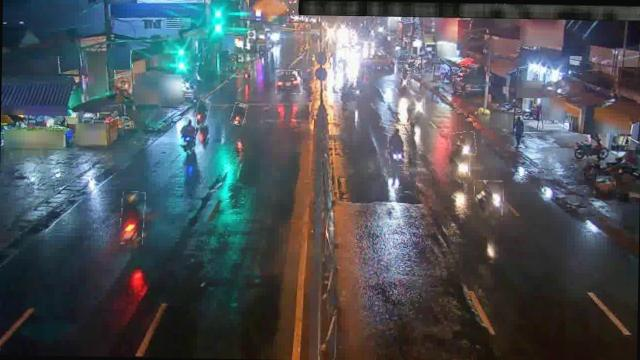Bike: (120, 192, 144, 243), (472, 180, 502, 220), (388, 126, 406, 165), (450, 131, 476, 156), (448, 148, 470, 176), (180, 116, 196, 151), (195, 100, 209, 126), (412, 94, 425, 119), (232, 102, 246, 124), (400, 68, 410, 88)
Car: (275, 70, 302, 94)
